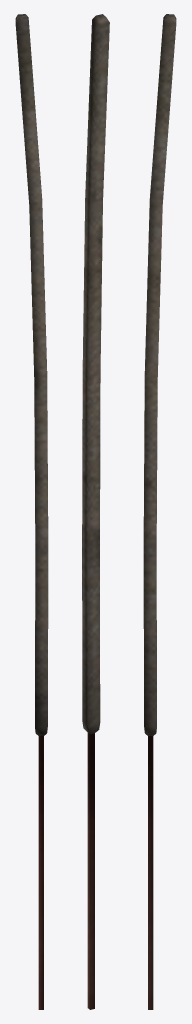
The model's file is incense02.FBX.
3 views of the same model, side by side, from view 1: azimuth 90°, elevation 25°; view 2: azimuth 210°, elevation 25°; view 3: azimuth 270°, elevation 25° (orthographic).
Visible parts, largest first — view 1: SM_Incense02; view 2: SM_Incense02; view 3: SM_Incense02.
Part boxes in pixels (x1=…): SM_Incense02: x1=15, y1=14, x2=48, y2=1009; SM_Incense02: x1=82, y1=14, x2=109, y2=1009; SM_Incense02: x1=143, y1=14, x2=176, y2=1009.
Bounding box in the file's own units: 0.3017 × 25.42 × 0.7597.
1 material, 1 textured.
